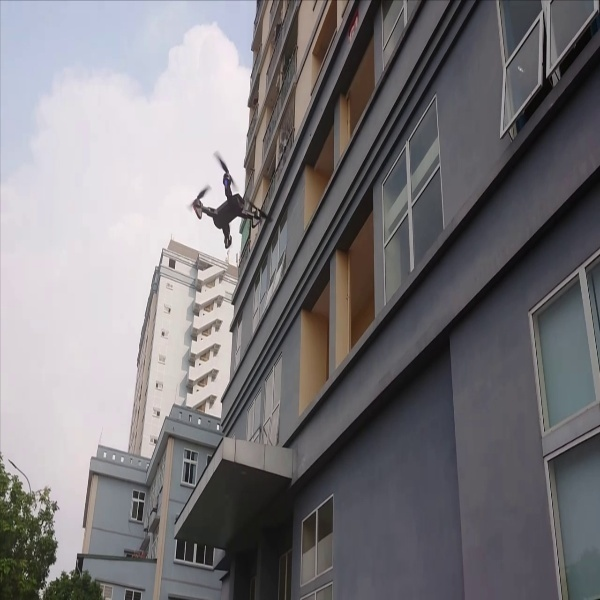drone: (178, 144, 273, 258)
